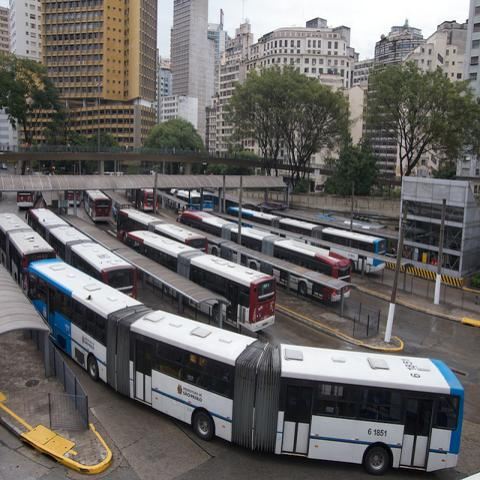bus: (24, 254, 466, 468), (118, 229, 277, 332), (25, 205, 137, 297), (271, 236, 352, 303), (0, 209, 55, 285), (321, 225, 387, 274), (154, 224, 208, 252), (81, 189, 110, 223), (125, 188, 158, 211), (17, 190, 34, 210), (68, 191, 82, 205)
